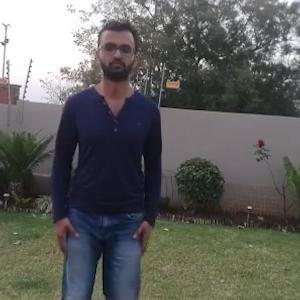follow: (59, 43, 160, 299)
